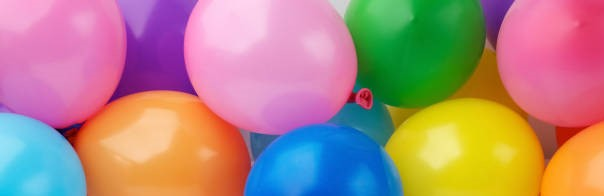Balloon: (184, 1, 358, 134), (78, 89, 248, 196), (1, 1, 128, 129), (387, 99, 545, 196), (345, 1, 486, 108), (494, 1, 604, 129)
